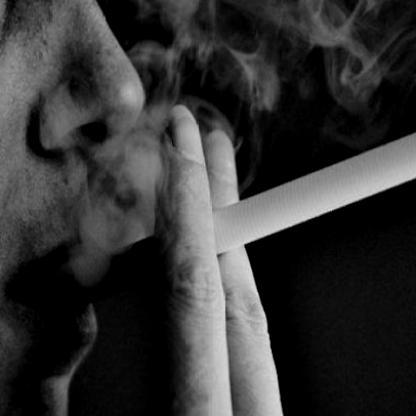cigarette: (58, 134, 415, 312)
smoke: (158, 0, 409, 127), (74, 132, 158, 263)
